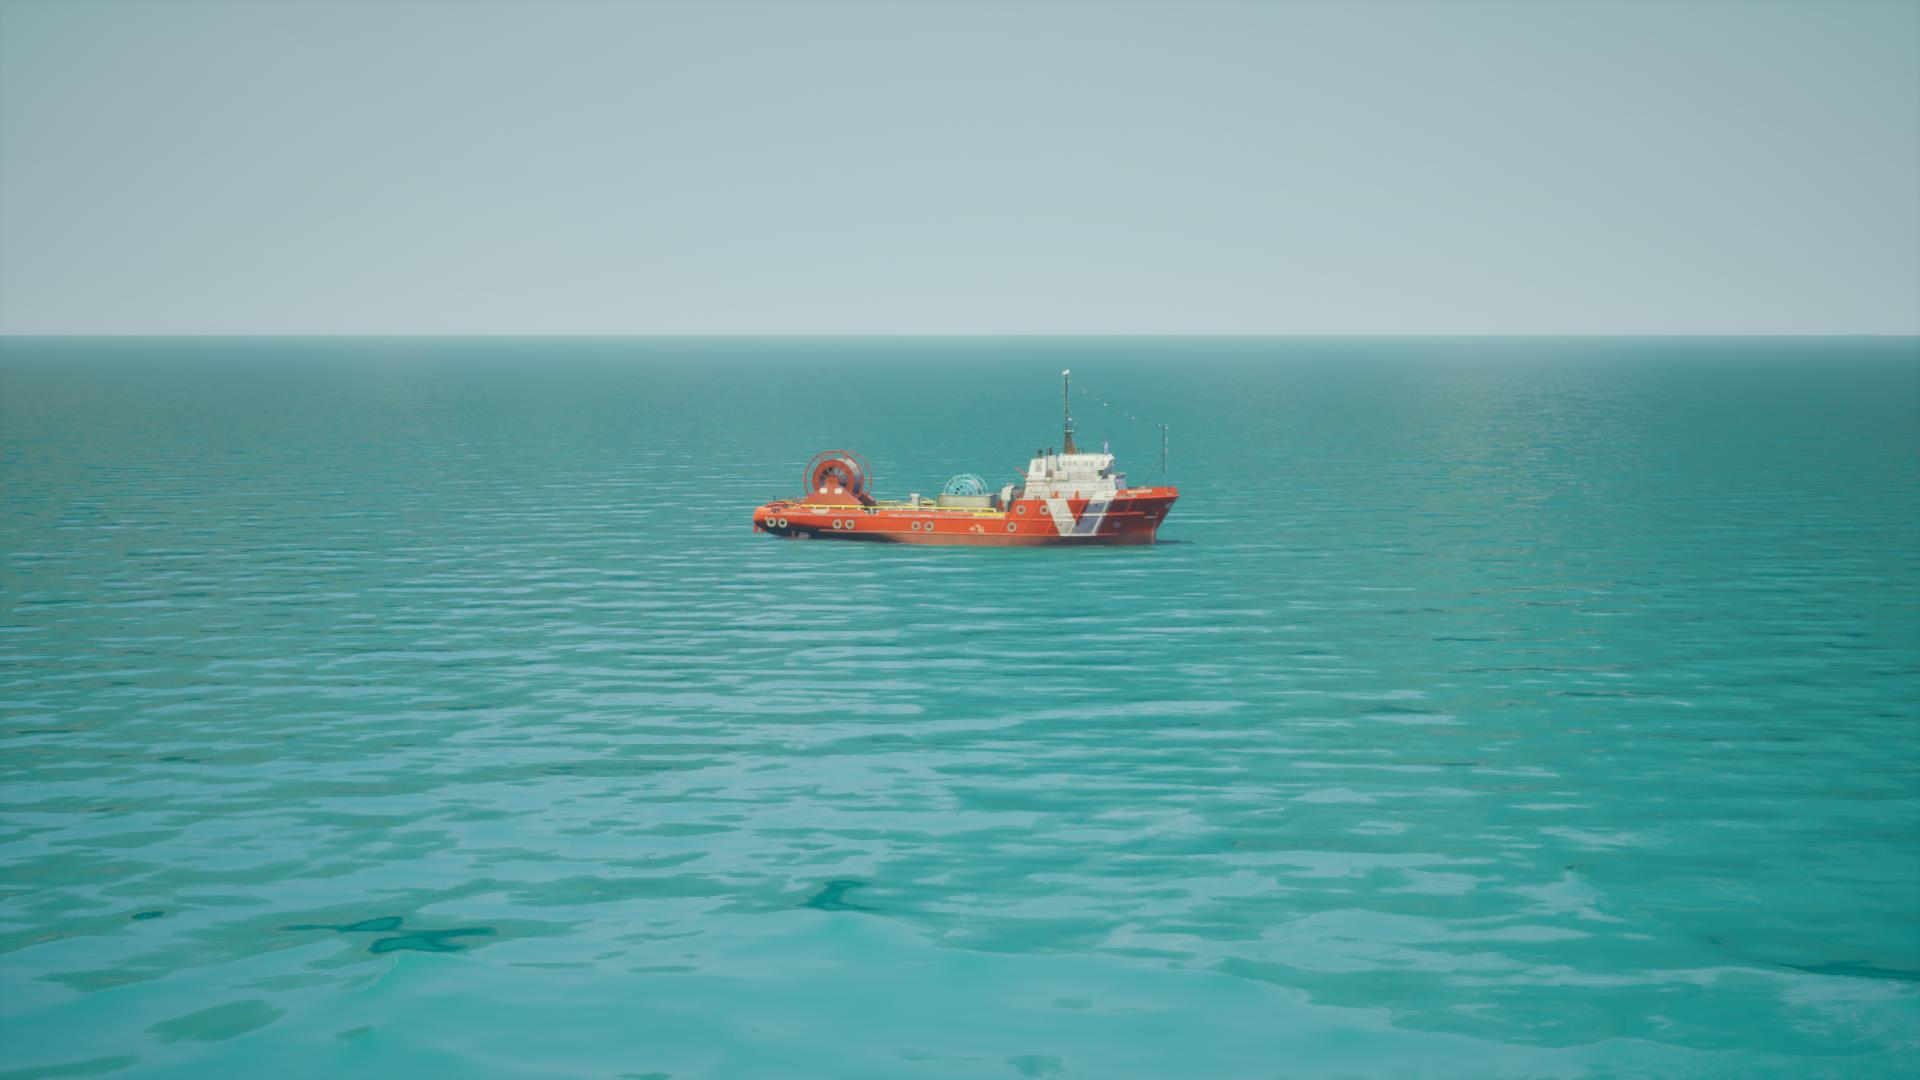Tug Boat: (753, 372, 1183, 549)
